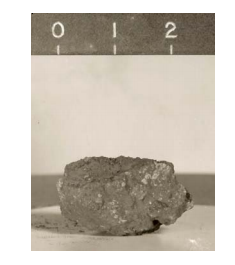Breccia: (49, 142, 201, 241)
